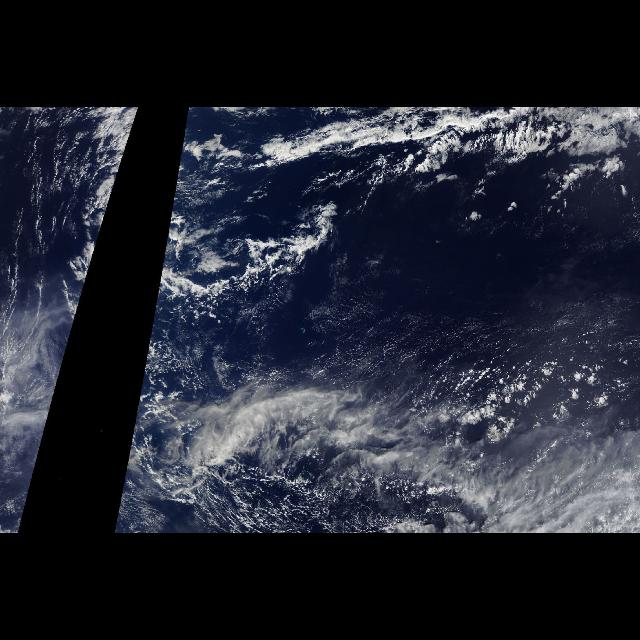Fish: (156, 109, 636, 303), (69, 109, 139, 303)
Sugar: (211, 310, 619, 394)
